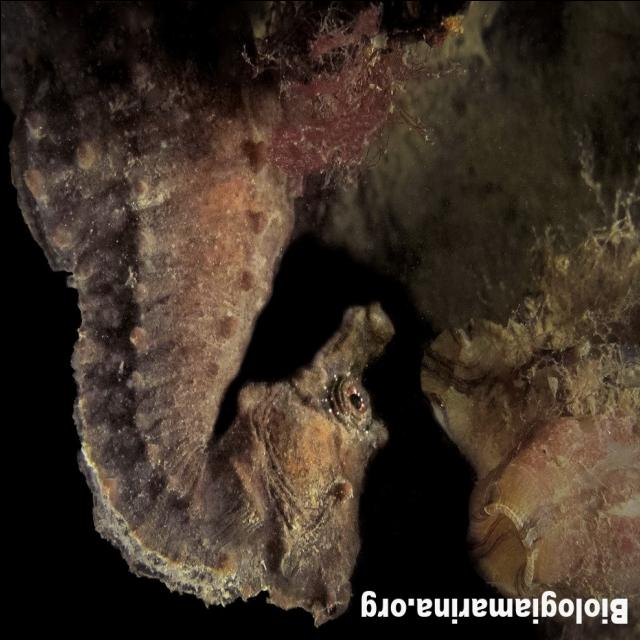Hippo: (224, 289, 400, 638)
